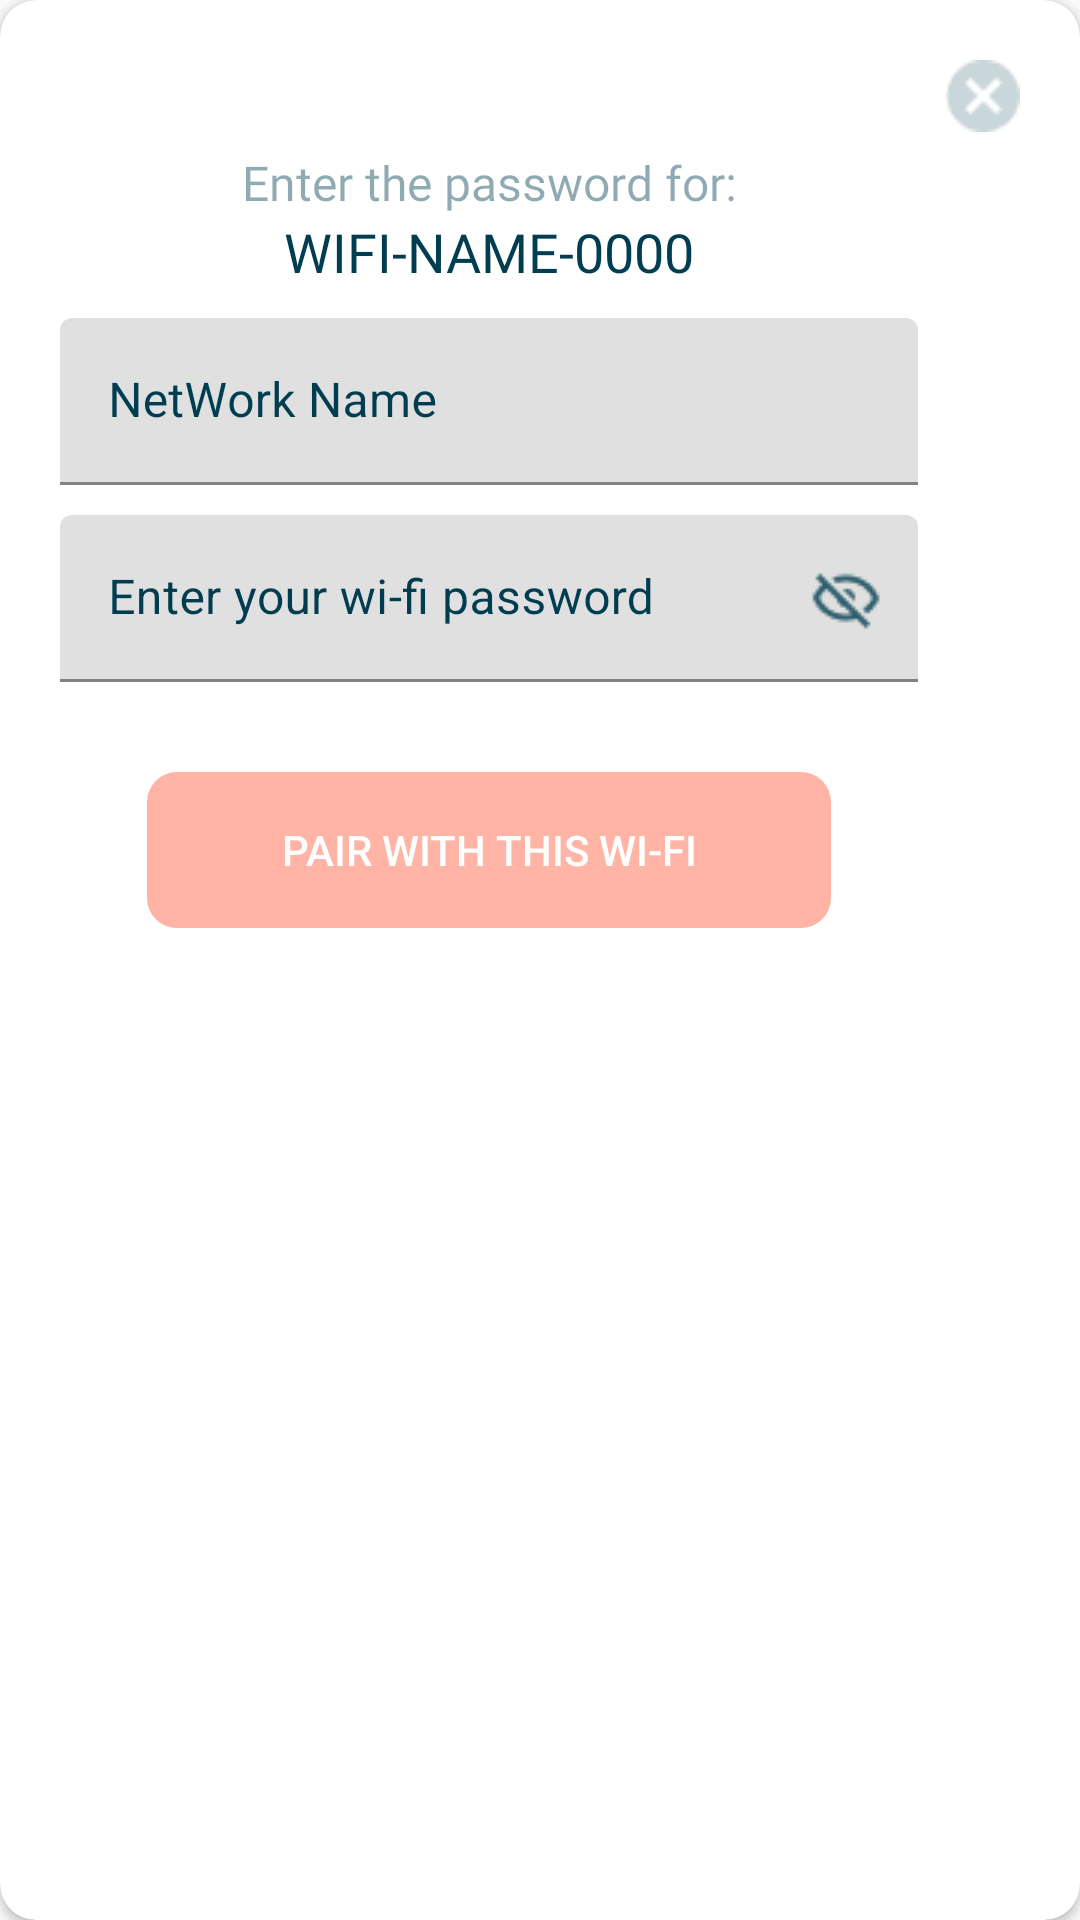

Screen size 1080*1920. Icon name, then its center in pixels as [x,y]:
cross: [983,96]
